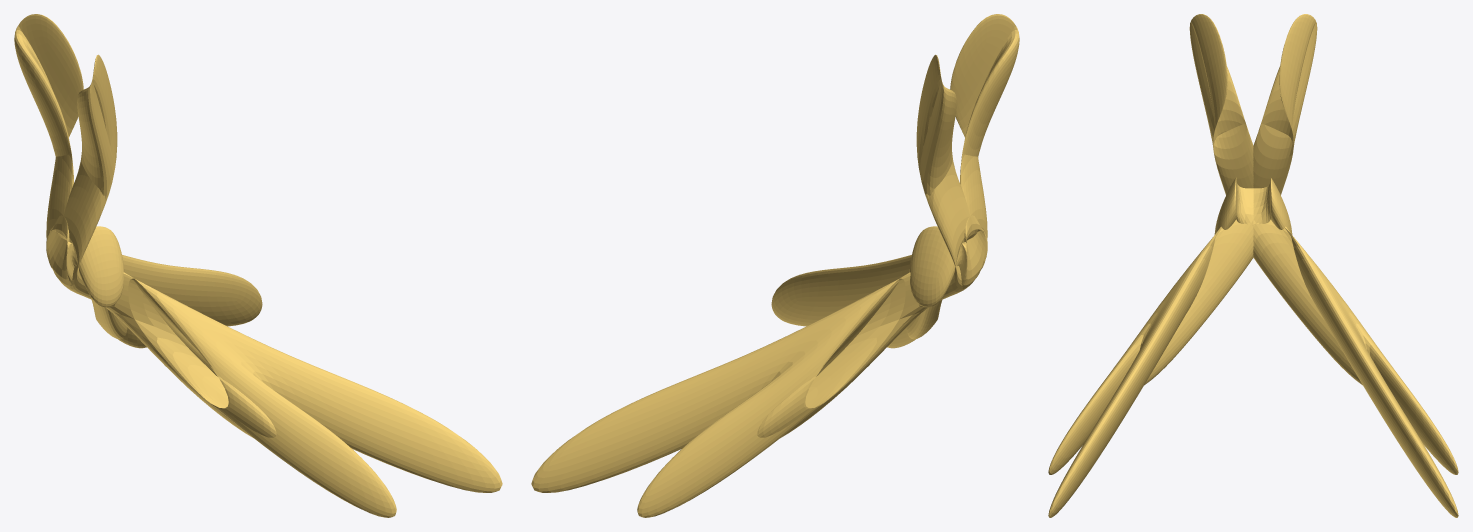
File: Creaturestruc12.obj
The picture shows the model from 3 angles, left to right: view 1: azimuth 30°, elevation 25°; view 2: azimuth 150°, elevation 25°; view 3: azimuth 270°, elevation 25°; orthographic projection. The views are drawn at different scales.
Visible parts, largest first — view 1: Cube_Cube.013; view 2: Cube_Cube.013; view 3: Cube_Cube.013.
Part boxes in pixels (<box>): Cube_Cube.013: <box>14,14,502,517</box>; Cube_Cube.013: <box>531,14,1019,517</box>; Cube_Cube.013: <box>1048,14,1458,517</box>.
Bounding box in the file's own units: 13.96 × 17.88 × 17.66.
